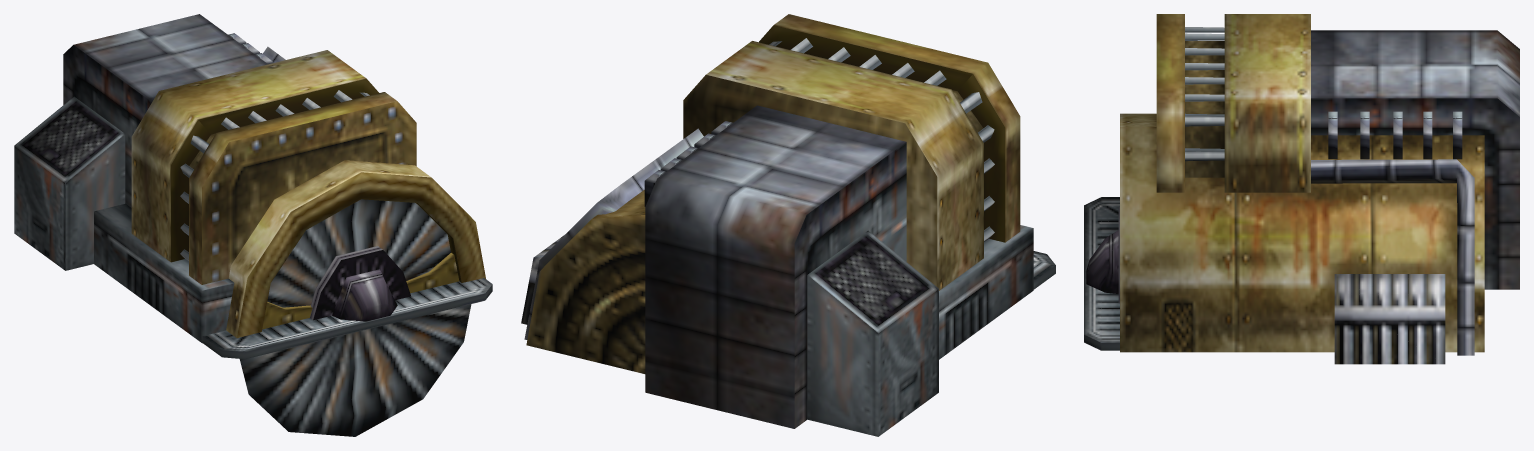
The model's file is a_tunnelmachine01.glb.
3 views of the same model, side by side, from view 1: azimuth 30°, elevation 25°; view 2: azimuth 150°, elevation 25°; view 3: azimuth 270°, elevation 25° (orthographic). The views are drawn at different scales.
Parts seen in each view (by area): view 1: a_tunnelmachine01; view 2: a_tunnelmachine01; view 3: a_tunnelmachine01.
Part boxes in pixels (x1,y1,x2,y2): a_tunnelmachine01: (14, 14, 492, 436); a_tunnelmachine01: (521, 14, 1055, 436); a_tunnelmachine01: (1084, 14, 1519, 364).
Size of the model in its own units: 1.87 by 1.73 by 1.97.
1 material, 1 textured.
